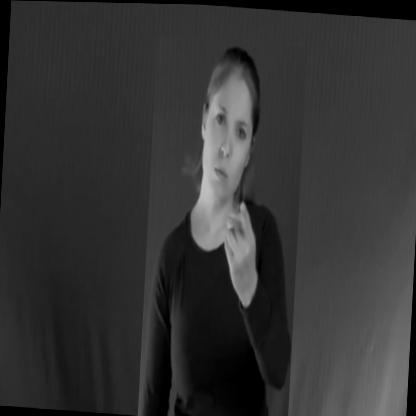HowAreYou: (137, 34, 307, 416)
